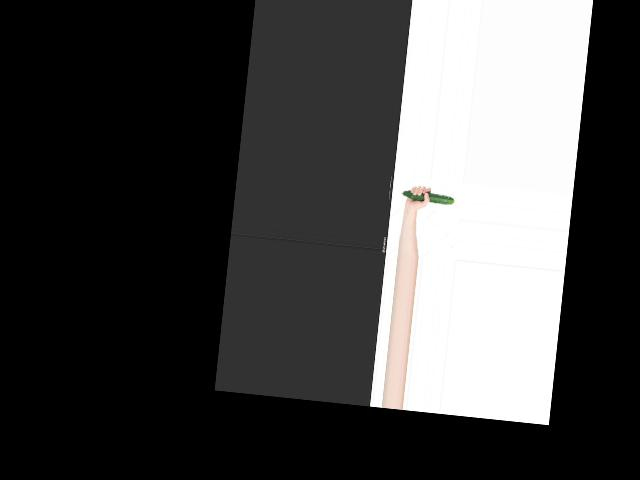cucumber: (401, 189, 454, 205)
